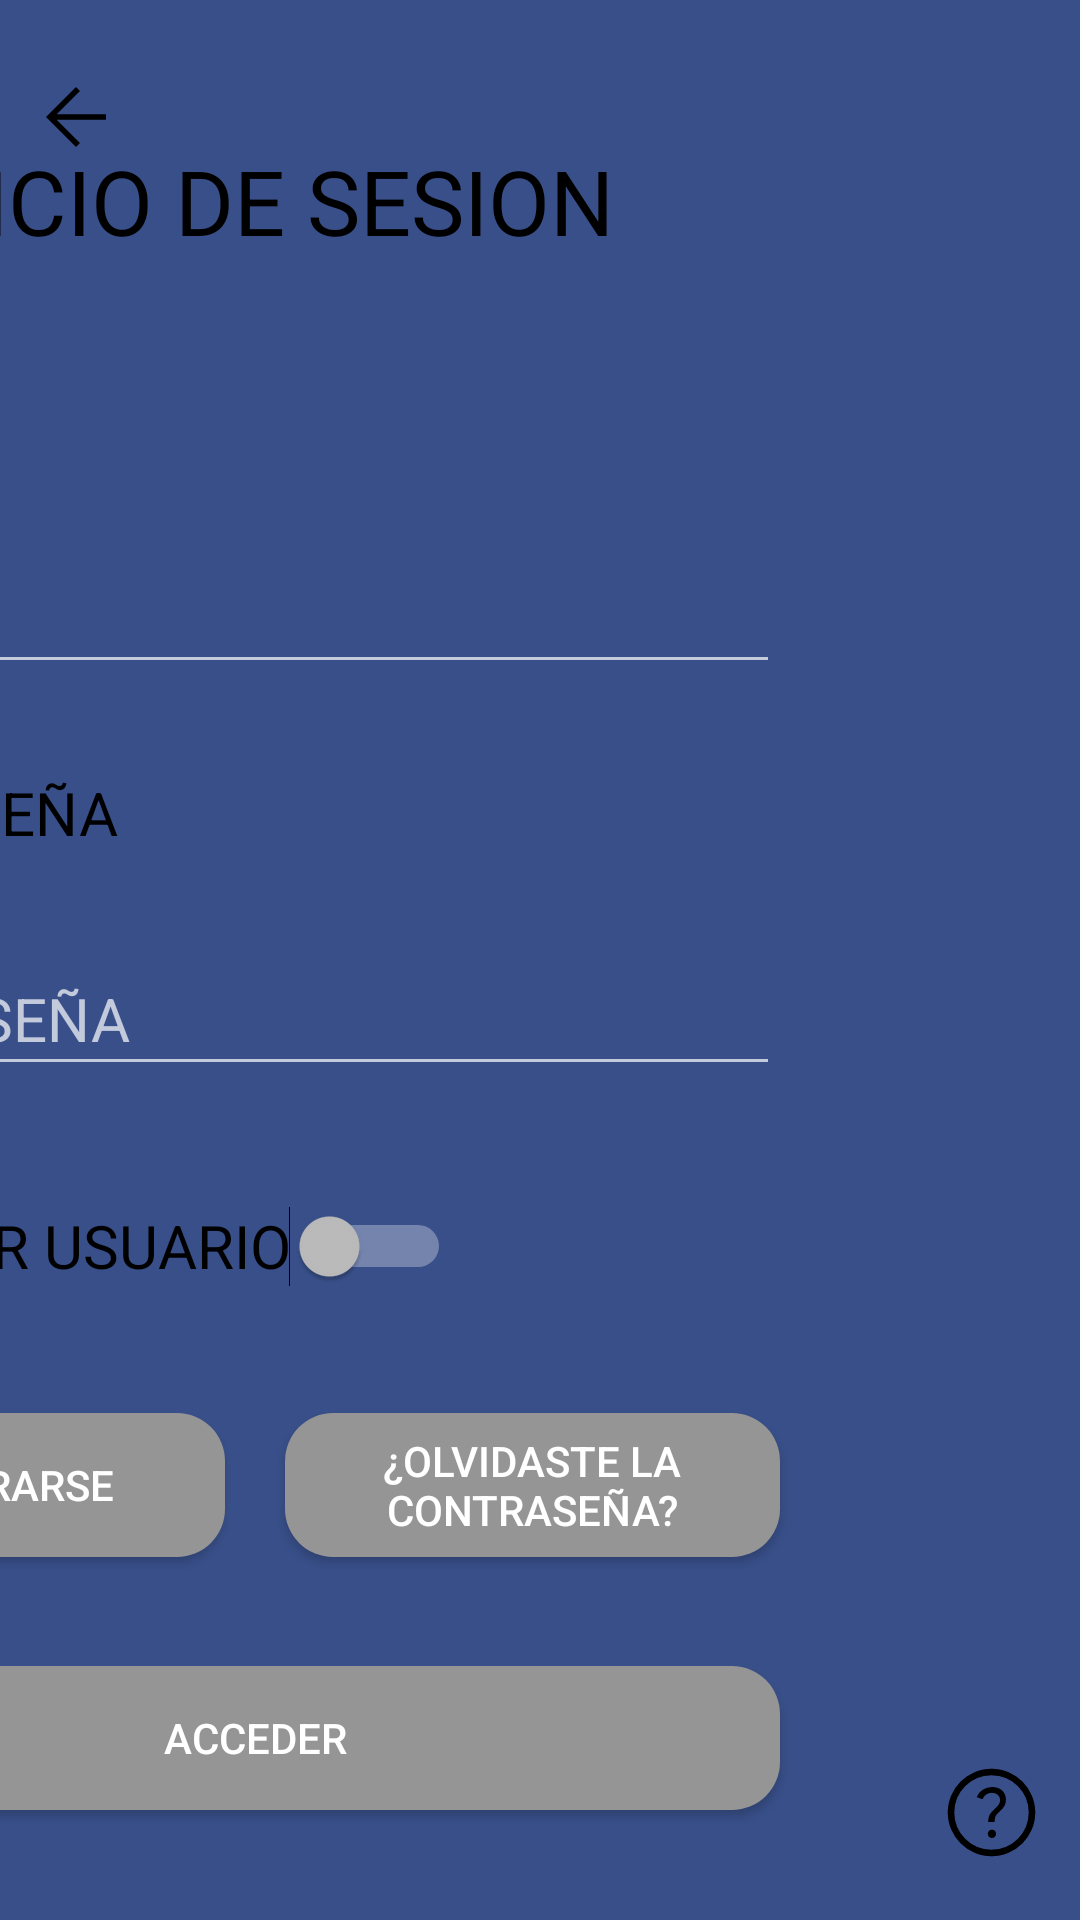

Named icons in this screenshot (1080px×1920px) and their centers, (x,y):
arrow back android: (76,117)
help: (991,1812)
